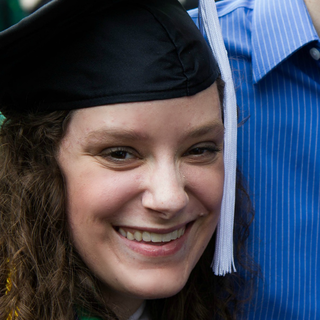eye: (93, 141, 145, 167), (177, 139, 220, 164)
